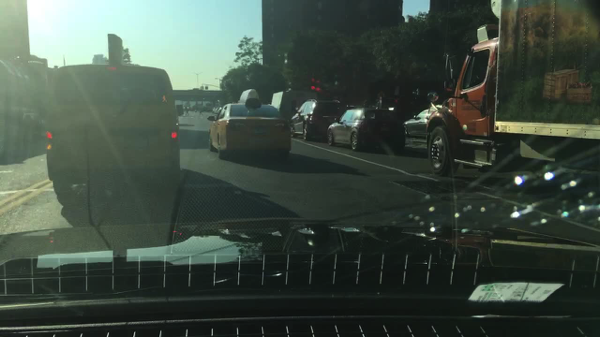car: (45, 33, 181, 209), (207, 89, 292, 158), (325, 107, 407, 152), (287, 100, 347, 140), (401, 104, 446, 137), (271, 91, 318, 119), (176, 103, 184, 116), (215, 106, 223, 117), (211, 107, 217, 114)
person: (184, 107, 190, 116)
traffic light: (310, 78, 316, 91)
traffic sign: (376, 89, 385, 97), (395, 85, 401, 96)
truck: (426, 0, 598, 177), (0, 58, 55, 165)
